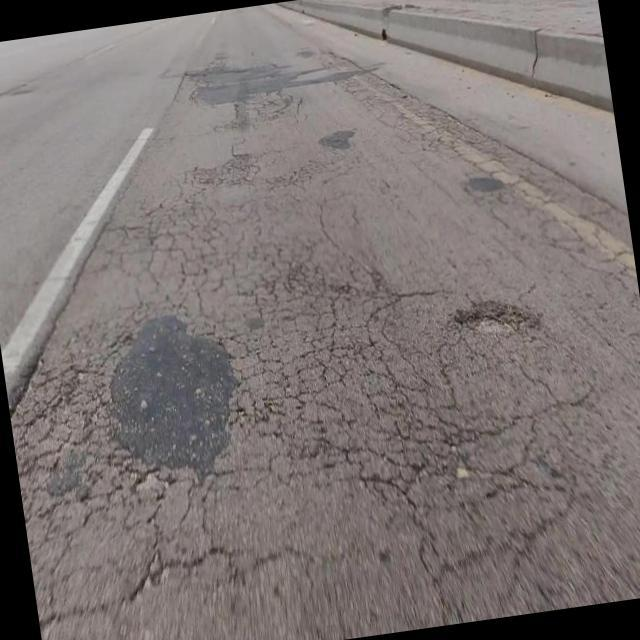Pothole: (452, 302, 542, 337)
